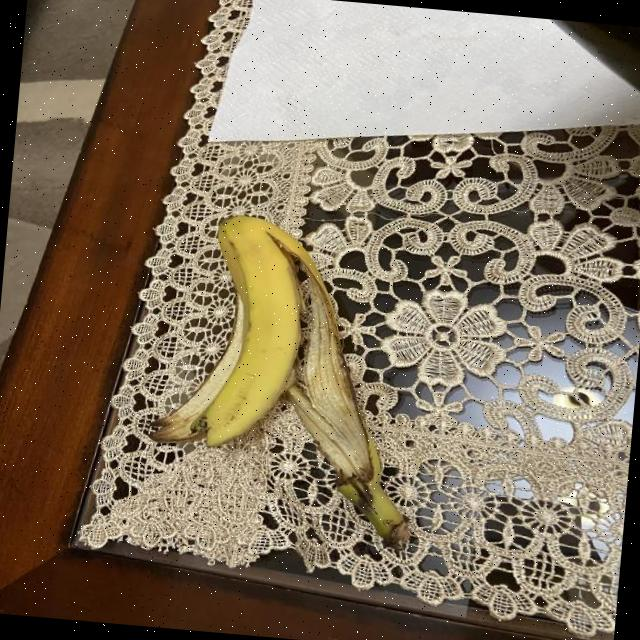banana-peel: (142, 206, 436, 550)
